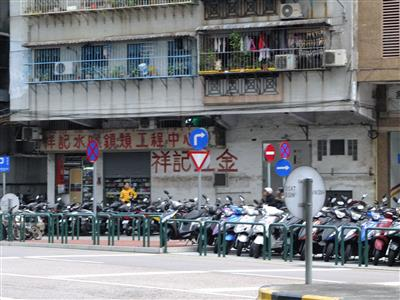noEntry: (261, 141, 275, 162)
noStopping: (85, 137, 100, 163), (278, 140, 292, 160)
rightOnly: (273, 157, 291, 177)
rightTurnOnly: (188, 125, 210, 150)
yield: (186, 149, 211, 173)
